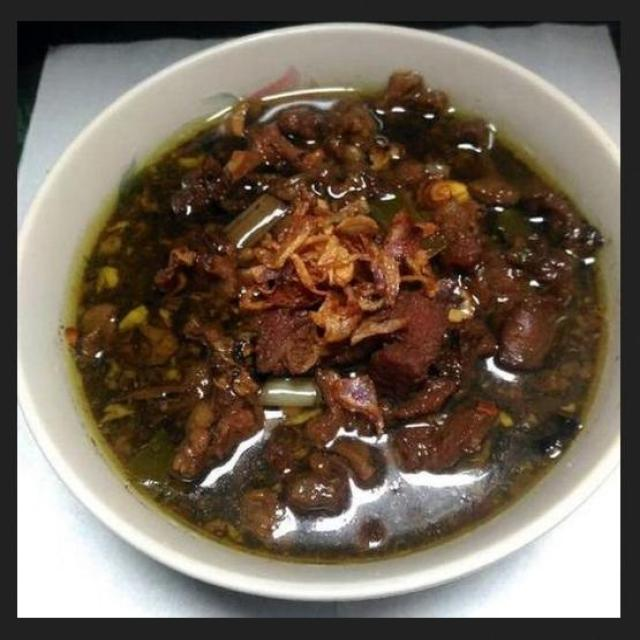Rawon: (112, 130, 560, 525)
